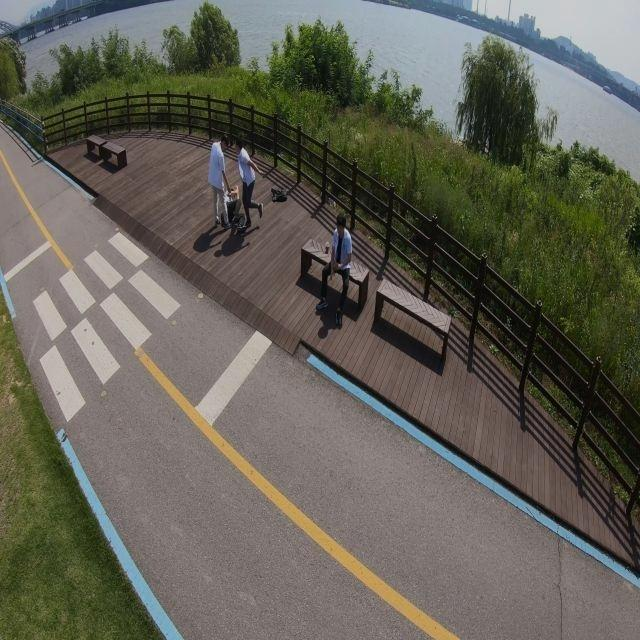fight: (208, 138, 261, 234)
non-fight: (317, 214, 354, 313)
